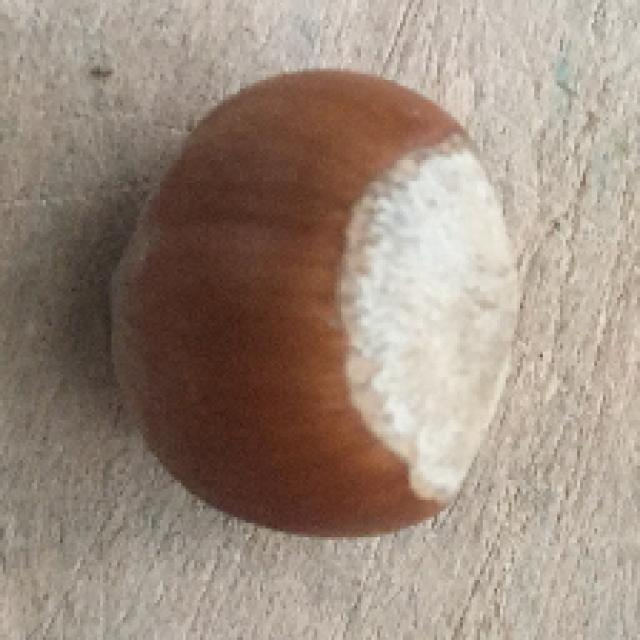qualityHazelnut: (112, 66, 524, 534)
